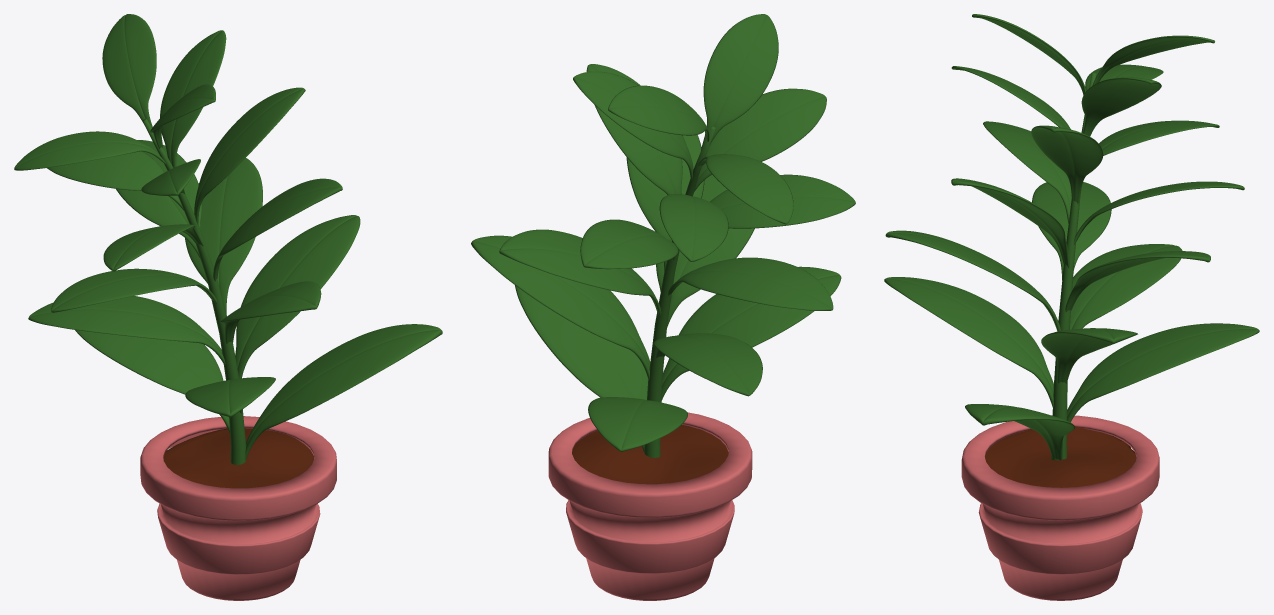
File: Plant.fbx
3 renders of one model, left to right at view 1: azimuth 30°, elevation 25°; view 2: azimuth 150°, elevation 25°; view 3: azimuth 270°, elevation 25°, orthographic. The views are drawn at different scales.
Parts seen in each view (by area): view 1: Planta; view 2: Planta; view 3: Planta.
Part boxes in pixels (x1,y1,x2,y2): Planta: (14, 14, 442, 600); Planta: (471, 14, 855, 600); Planta: (884, 14, 1259, 600).
Bounding box in the file's own units: 92.94 × 136 × 86.71.
